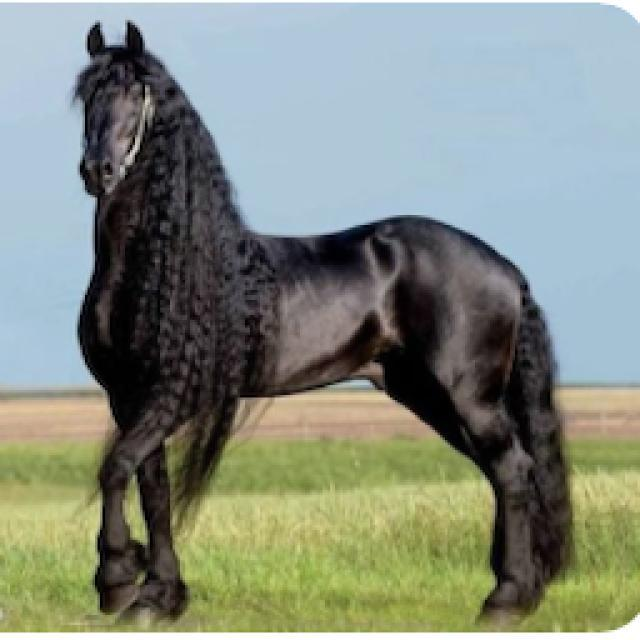Horse: (60, 18, 585, 628)
